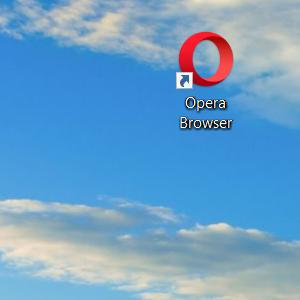opera: (176, 31, 234, 90)
